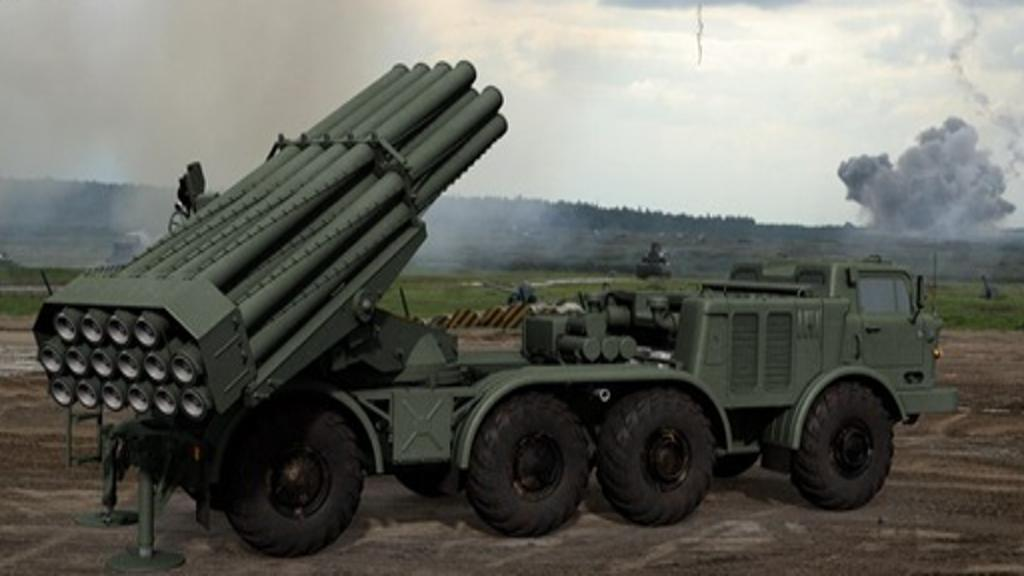MLRS: (32, 61, 958, 554)
